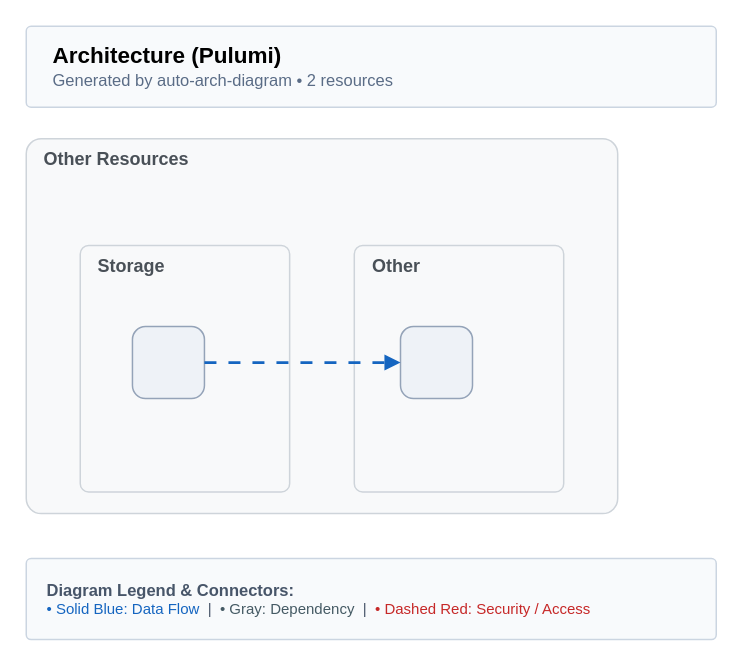
The diagram is 743 pixels wide and 666 high, and some of its shapes have lost their labels. The shapes that lost their labels are listed below. From the top down, each one's centre as x and y in pixels, then its label:
At pixel 167 362: "siteBucket".
At pixel 435 362: "cdn".
